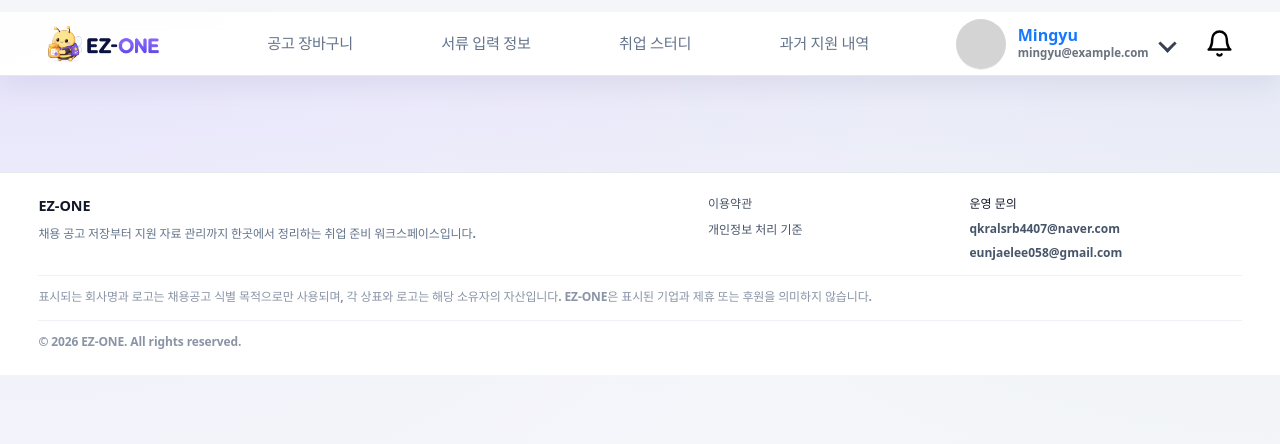
Test: AppLayout › MY-001: opens a compact mypage dropdown with the Google profile photo
This screenshot has width=1280, height=444.
Hover over the button with test id "mypage-menu-trigger" at (1065, 44), box [948,12,1182,74]
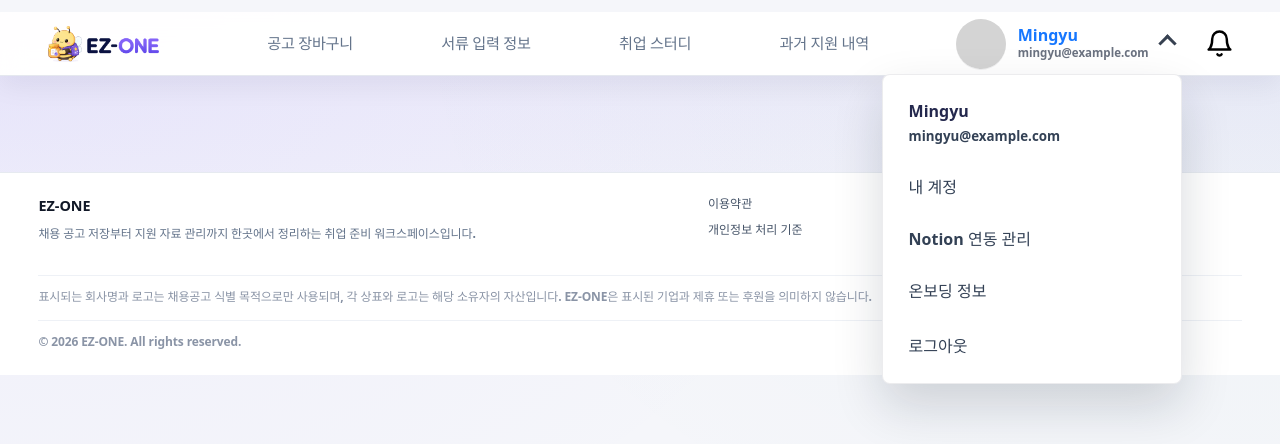
Check: the menu with test id "mypage-dropdown" shows "내 계정", box [897,164,1167,210]
Check: the menu with test id "mypage-dropdown" shows "Notion 연동 관리", box [897,216,1167,262]
Check: the menu with test id "mypage-dropdown" shows "온보딩 정보", box [897,268,1167,318]
